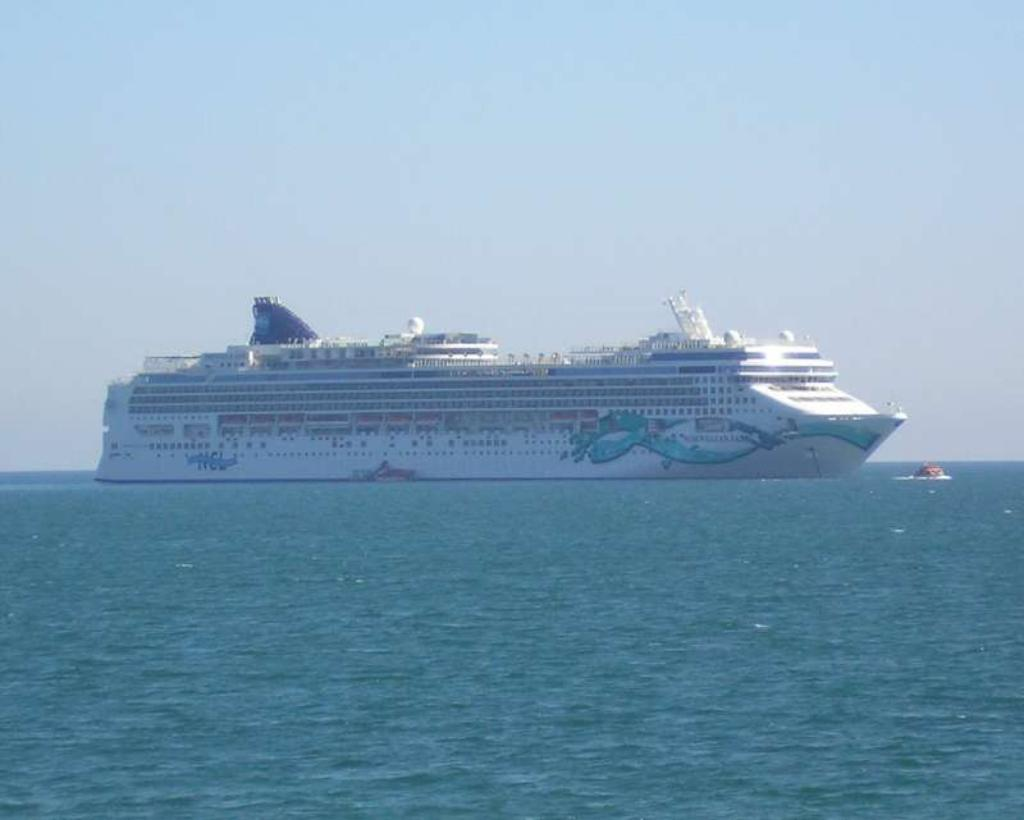PassengerShip: (84, 275, 910, 487)
